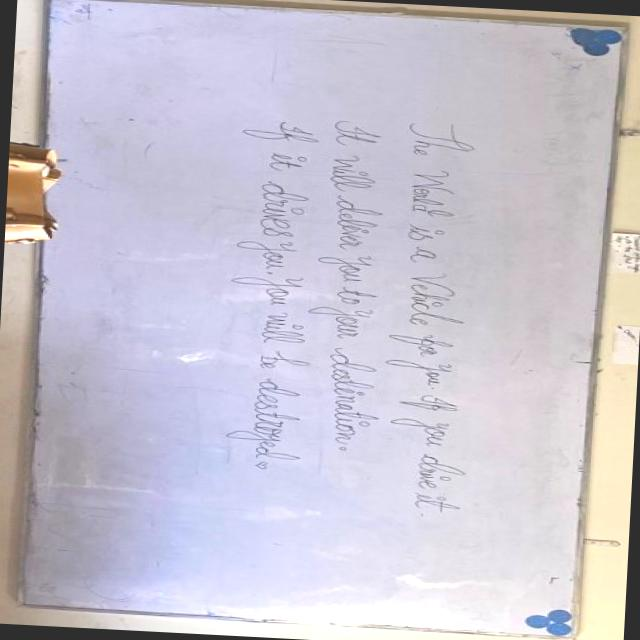White-board: (20, 0, 627, 639)
